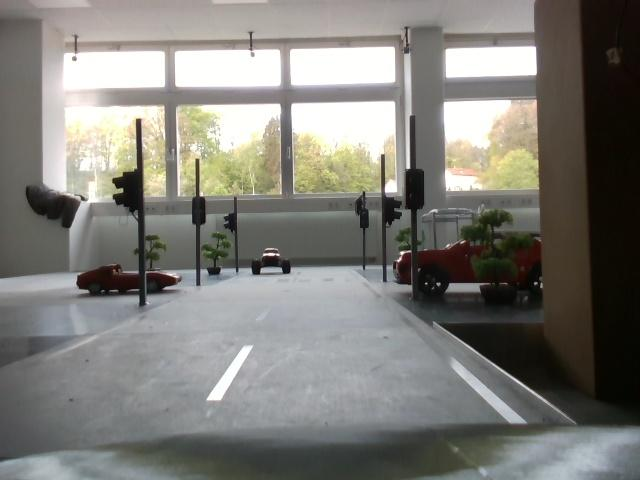car: (396, 235, 544, 297), (78, 258, 187, 298), (249, 243, 298, 282)
potted plant: (472, 211, 533, 308), (202, 233, 232, 277), (137, 233, 167, 277), (399, 222, 427, 254)
traffic light: (112, 172, 146, 213), (381, 197, 406, 229), (409, 174, 426, 209), (191, 197, 209, 227), (227, 211, 241, 231), (360, 208, 371, 228)
